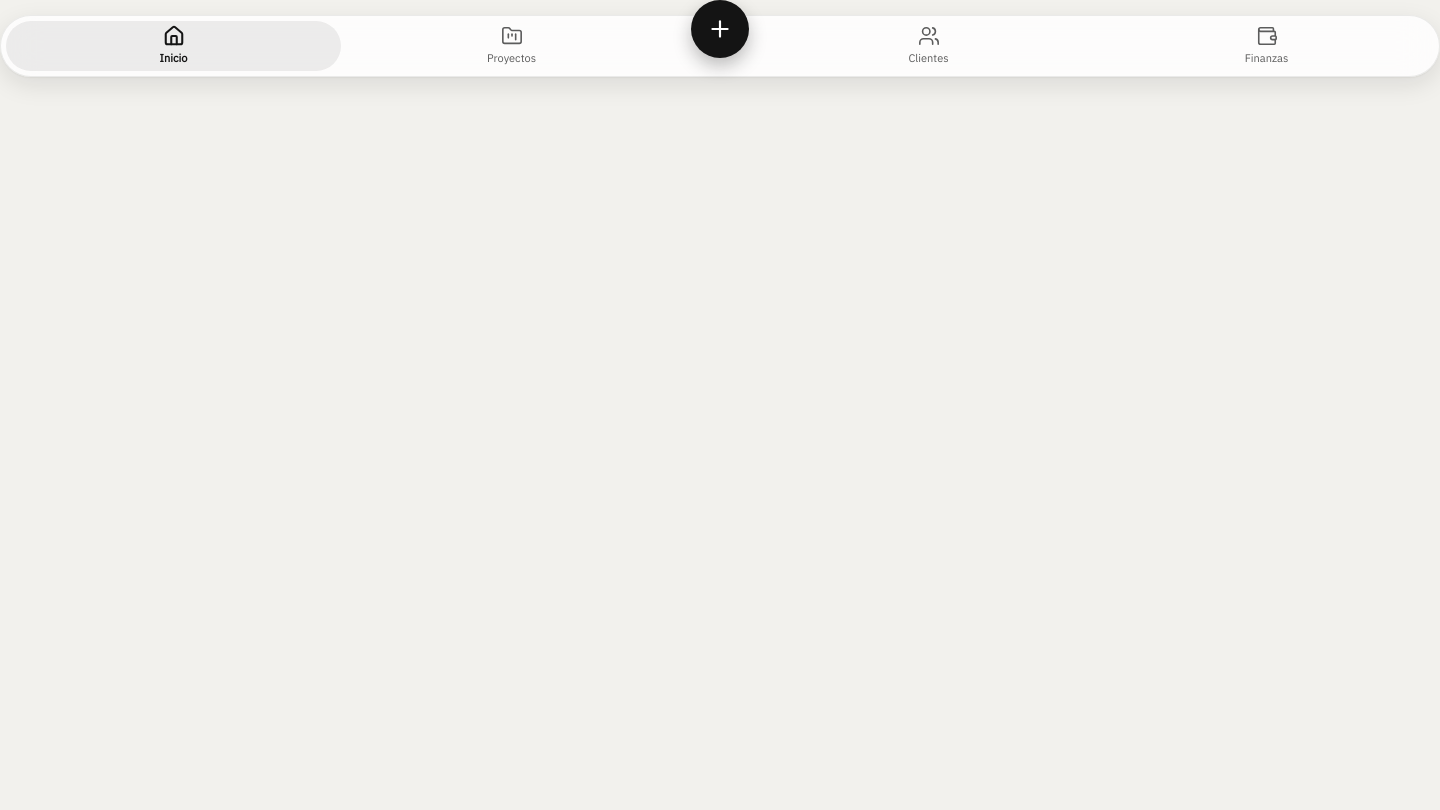
Test: en el celular › al elegir una acción, el menú, su fondo y el giro del más vuelven en el acto
The width and height of the screenshot is (1440, 810).
Click the button named "Cargar algo nuevo". click: (720, 29)
box: [691,0,749,58]
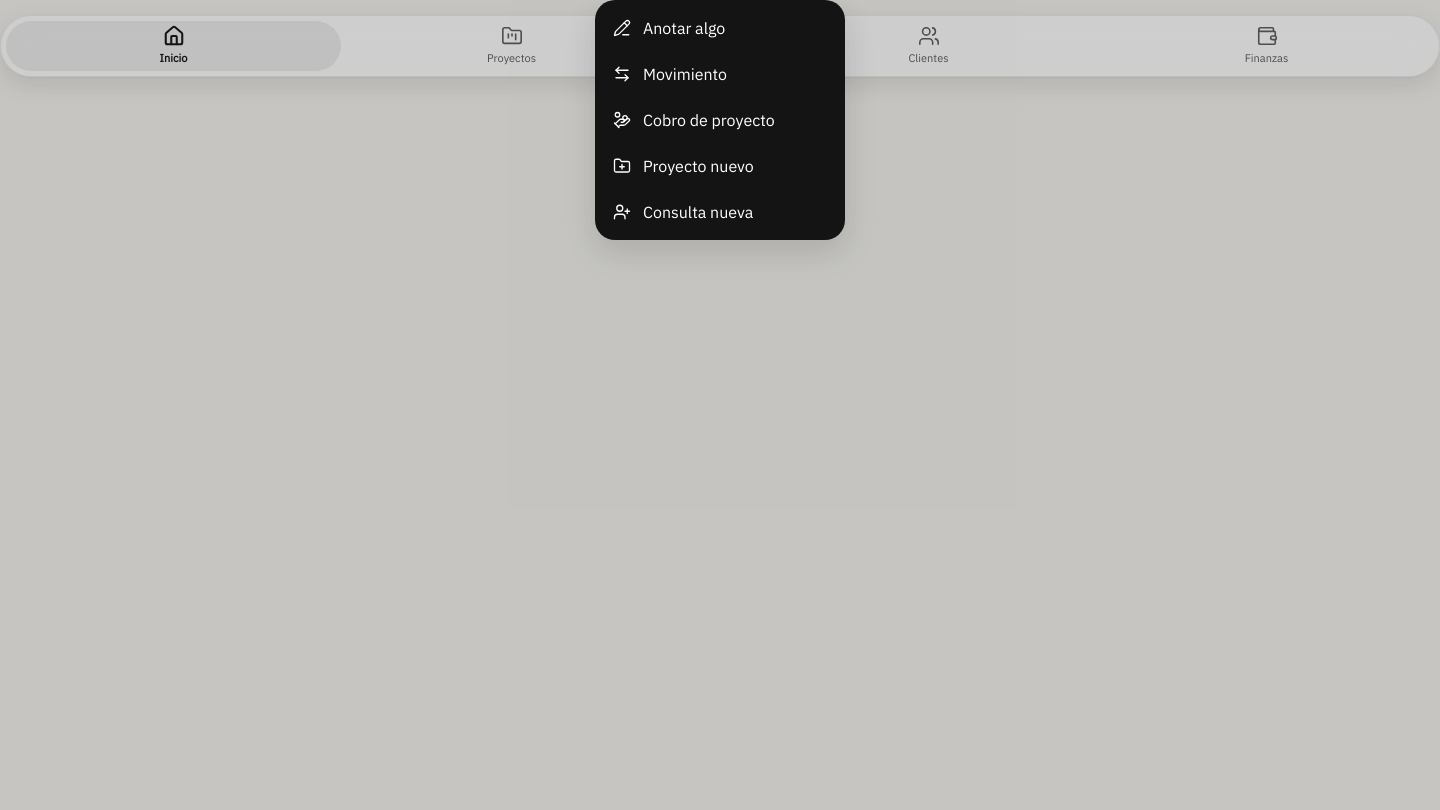
Click the menu item "Movimiento". click: (720, 74)
box: [601,52,839,96]
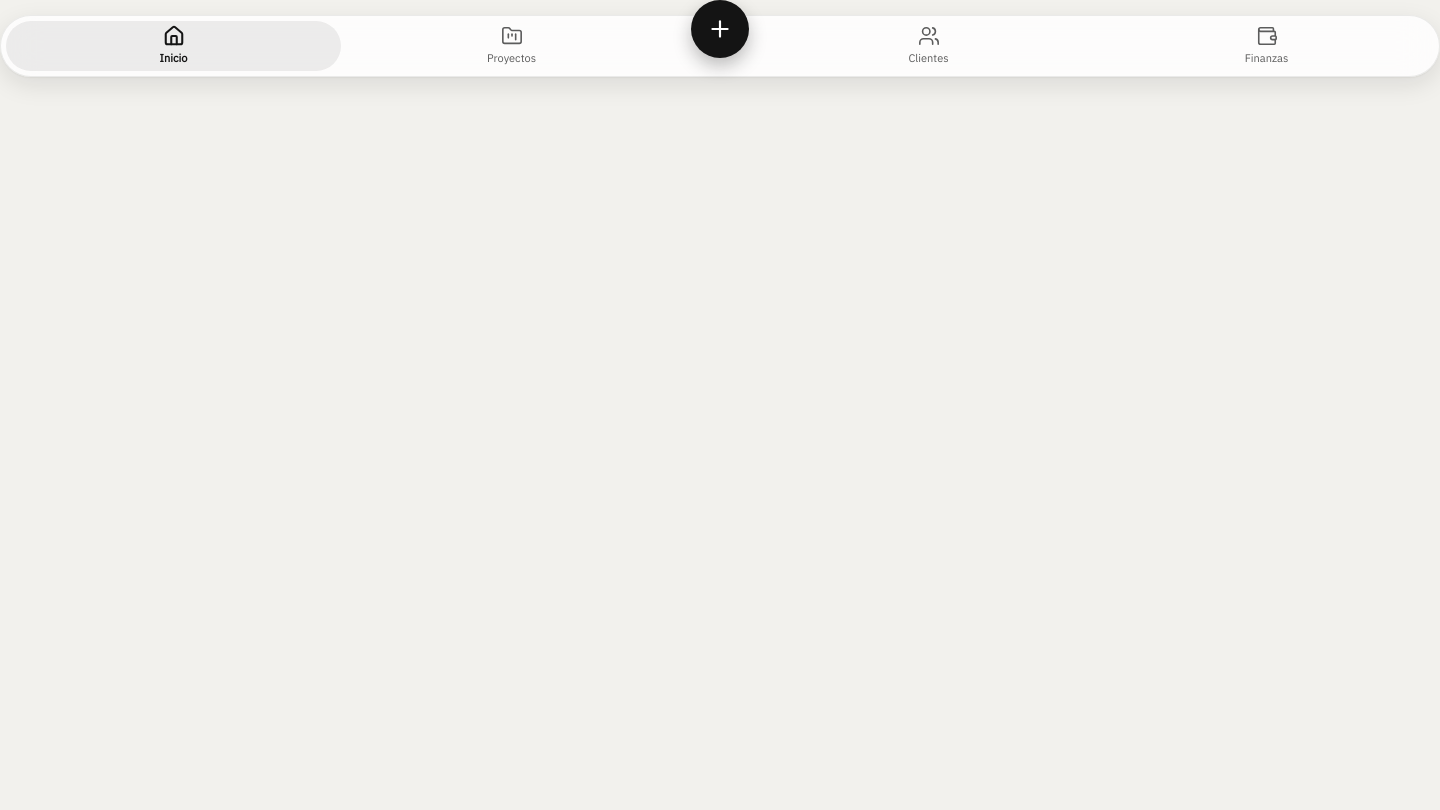
Expected: the button named "Cargar algo nuevo" is collapsed, [691,0,749,58]
